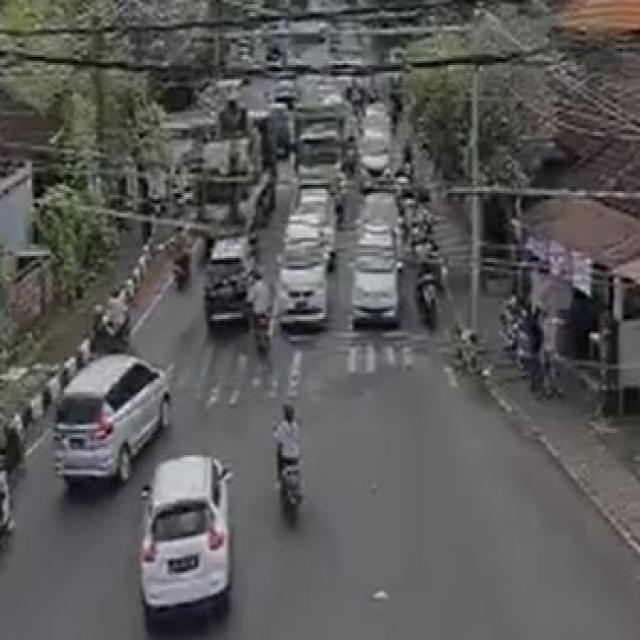car: (138, 449, 250, 640), (51, 349, 177, 506), (201, 240, 260, 340), (278, 229, 331, 339), (352, 212, 399, 334)
motorbike: (266, 413, 342, 544), (420, 254, 438, 349)
